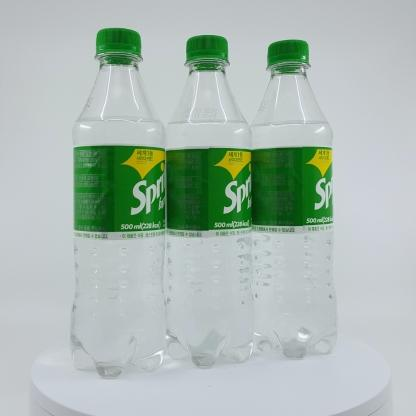-------500ML: (70, 28, 167, 376), (164, 35, 254, 367), (246, 39, 337, 358)
